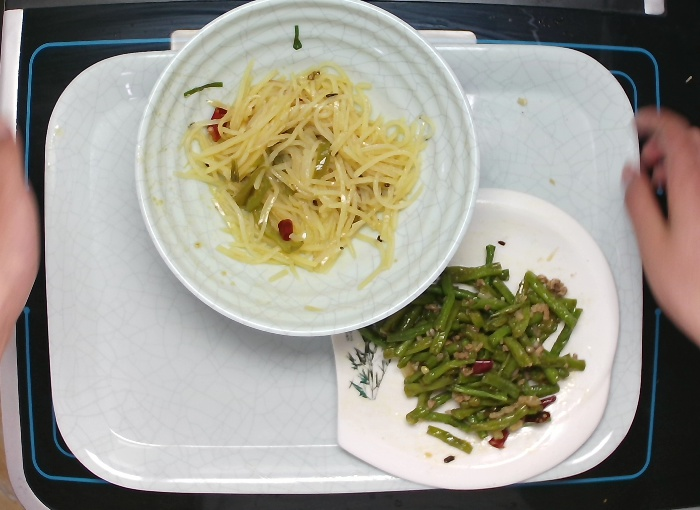JYsf-Da_Tang_Wan: (133, 1, 479, 337)
JYsf-Mian_Pan: (330, 184, 621, 493)
